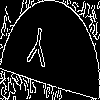Y: (25, 25, 50, 78)
